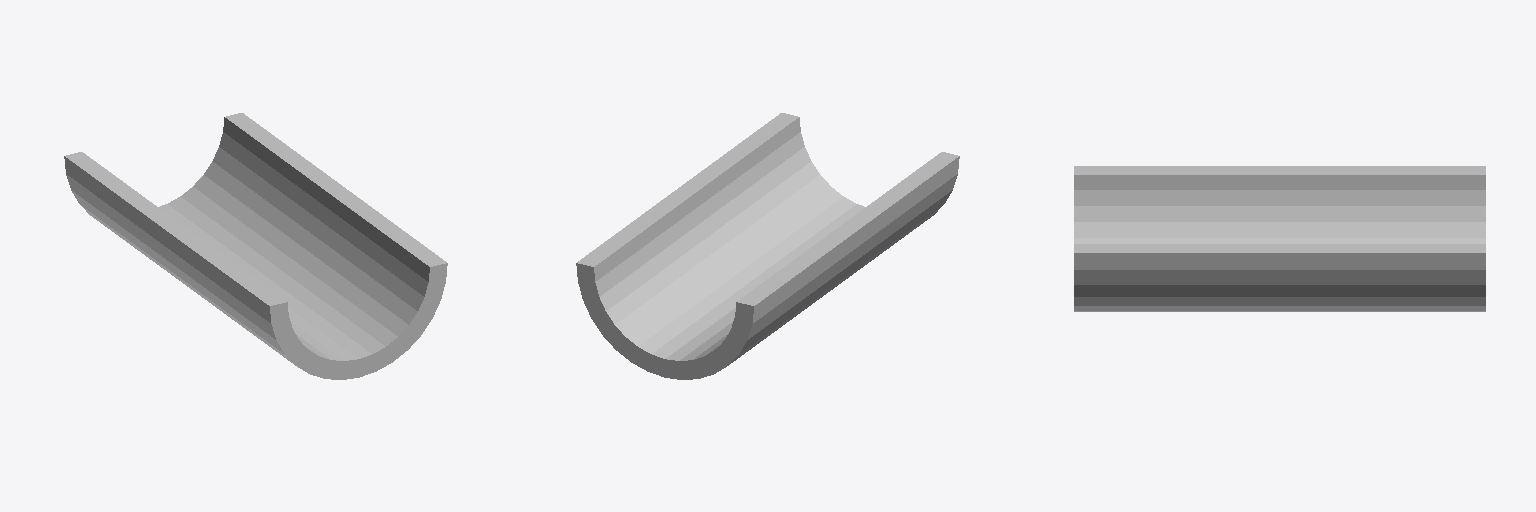
The model's file is forward.obj.
3 views of the same model, side by side, from view 1: azimuth 30°, elevation 25°; view 2: azimuth 150°, elevation 25°; view 3: azimuth 270°, elevation 25° (orthographic).
Parts seen in each view (by area): view 1: ForwardUp_Circle.005; view 2: ForwardUp_Circle.005; view 3: ForwardUp_Circle.005.
Part boxes in pixels (left/top/right/bottom): ForwardUp_Circle.005: left=64, top=113, right=447, bottom=379; ForwardUp_Circle.005: left=576, top=113, right=959, bottom=379; ForwardUp_Circle.005: left=1074, top=166, right=1485, bottom=311.
Bounding box in the file's own units: 2 × 1 × 4.